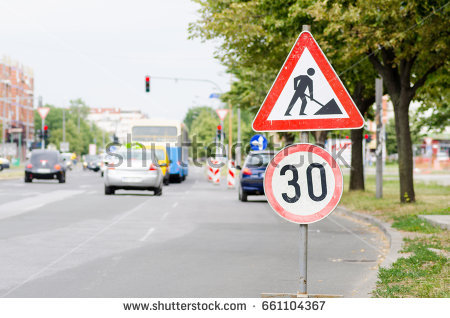Speed_limit_30km: (264, 145, 345, 226)
